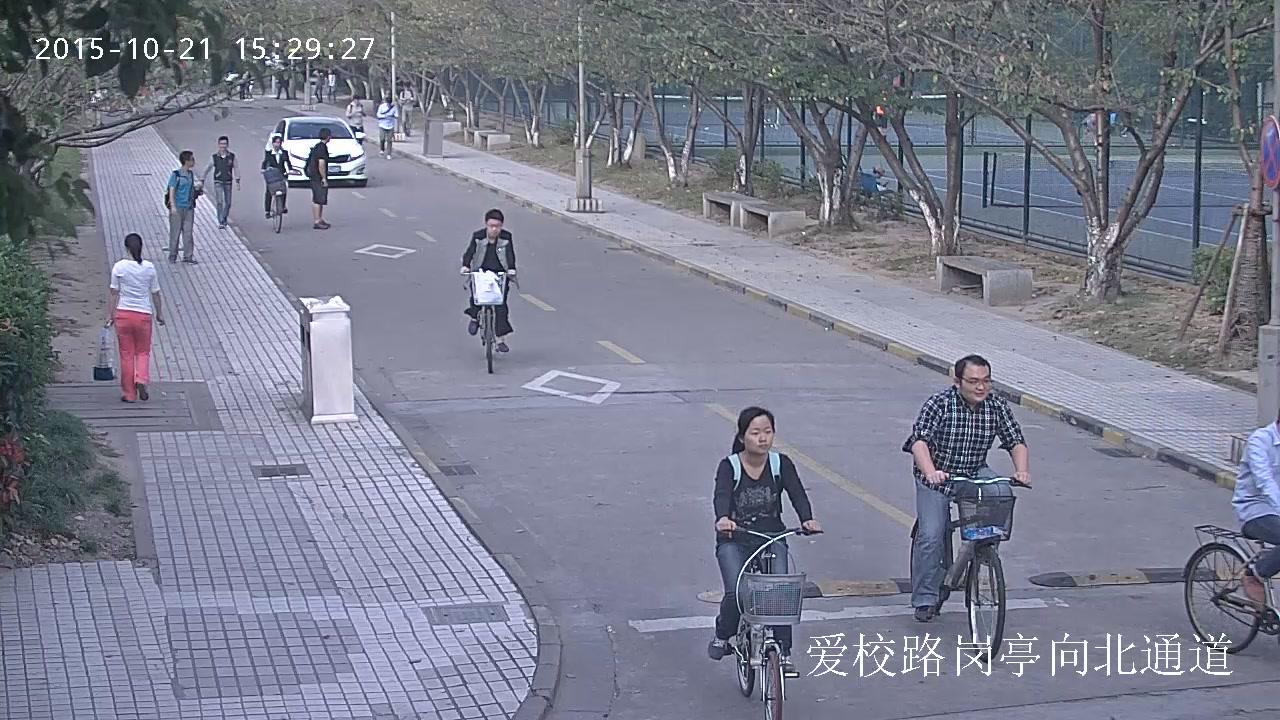face: (959, 364, 990, 402), (745, 415, 773, 454), (486, 219, 502, 236), (188, 155, 194, 166), (219, 140, 227, 148), (273, 138, 280, 147), (354, 98, 358, 103), (386, 103, 391, 107), (328, 68, 332, 72), (404, 85, 407, 90)
